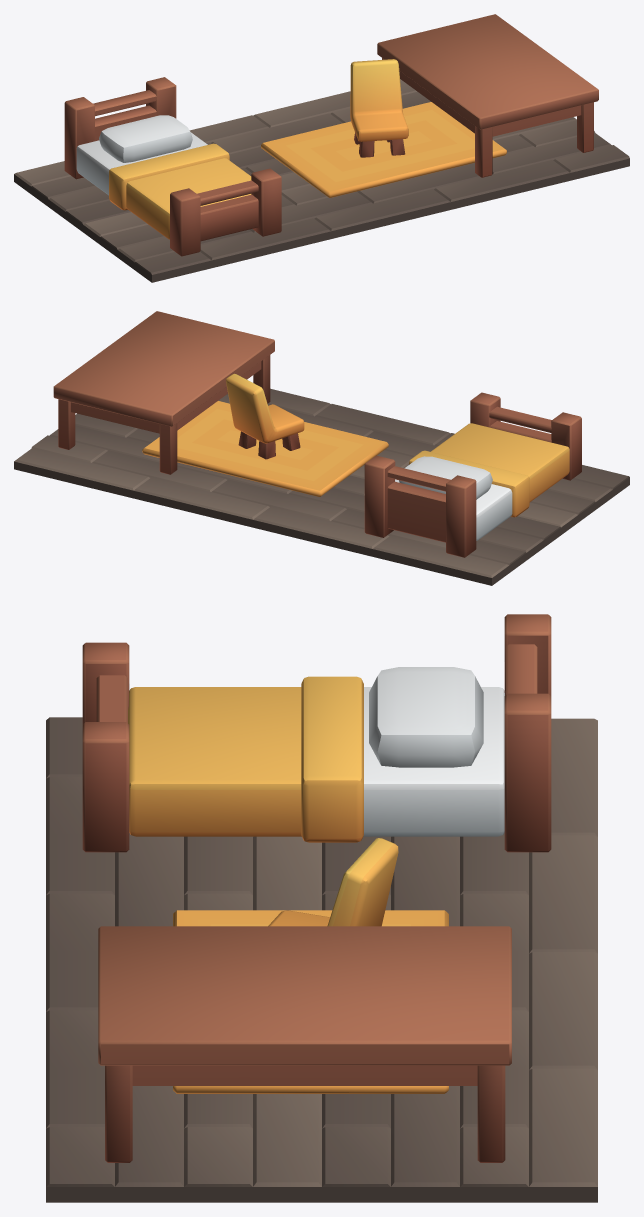
The model's file is props.glb.
3 views of the same model, one above another, from view 1: azimuth 30°, elevation 25°; view 2: azimuth 150°, elevation 25°; view 3: azimuth 270°, elevation 25° (orthographic). The views are drawn at different scales.
Parts seen in each view (by area): view 1: furniture, floor; view 2: furniture, floor; view 3: furniture, floor.
Boxes of the visible parts, <box> form: furniture: <box>64,14,598,256</box>; floor: <box>14,79,629,282</box>; furniture: <box>53,311,581,557</box>; floor: <box>14,388,629,585</box>; furniture: <box>82,614,551,1162</box>; floor: <box>46,717,597,1202</box>.
Size of the model in its own units: 8 by 1.42 by 4.
Materials: 2 (2 with a texture image).
